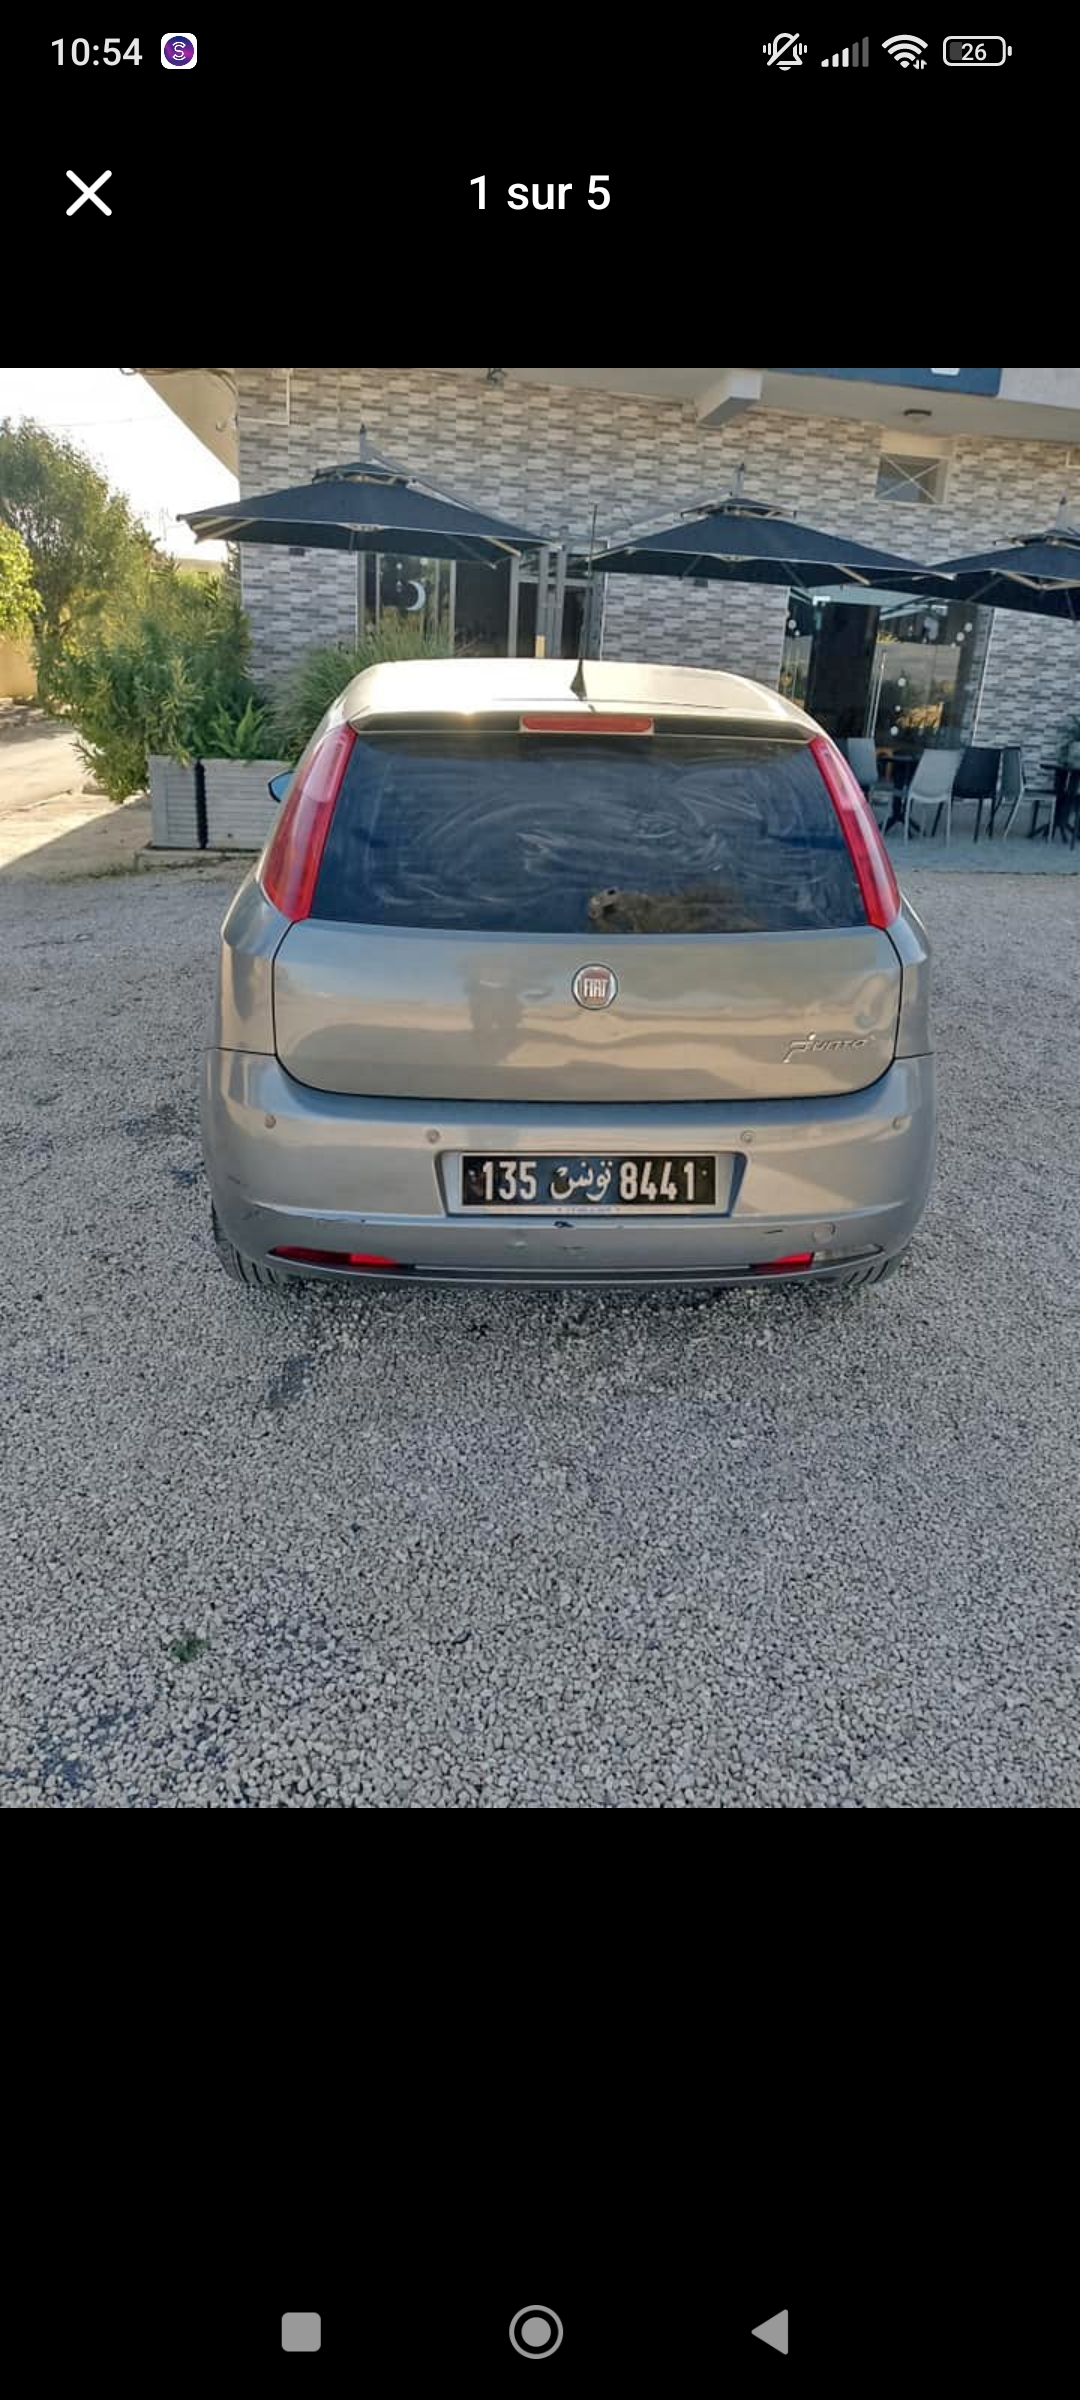fiat: (202, 628, 938, 1333)
